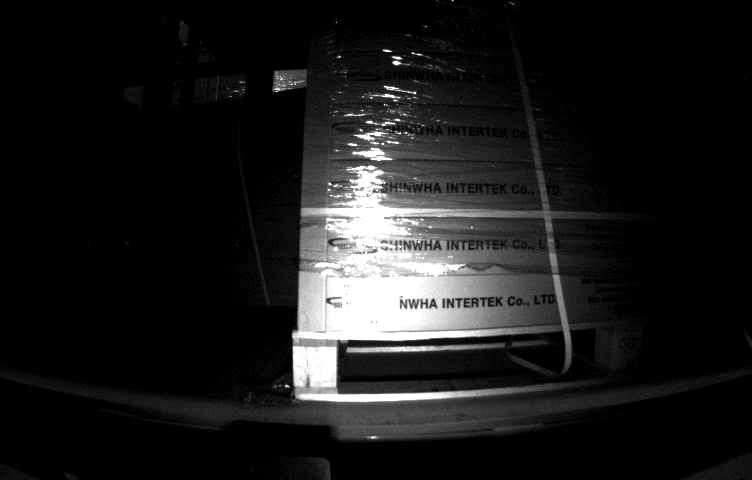True Barcode: (342, 283, 400, 330)
